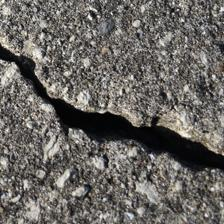Crack: (3, 20, 218, 157)
